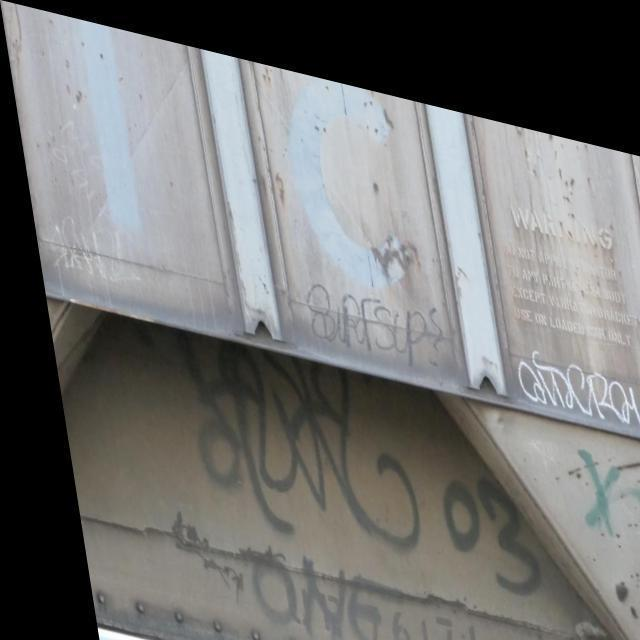-: (144, 318, 536, 592), (146, 485, 488, 640), (552, 400, 640, 640), (290, 247, 450, 363), (495, 301, 640, 424), (26, 212, 142, 294)
